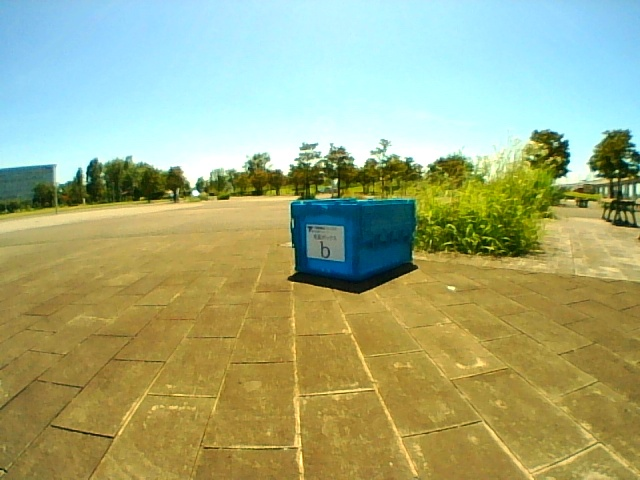blue_box: (292, 201, 413, 274)
tag_b: (309, 226, 344, 261)
